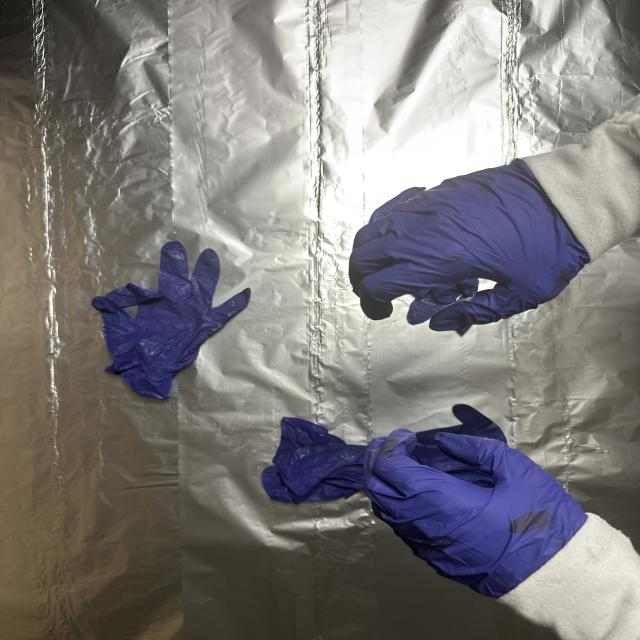gloves_contaminated: (349, 160, 590, 333), (364, 429, 586, 596)
